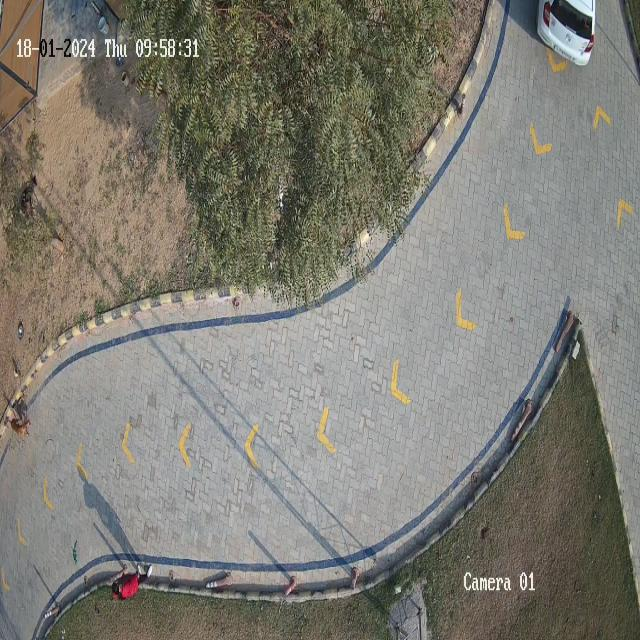car: (538, 0, 594, 66)
